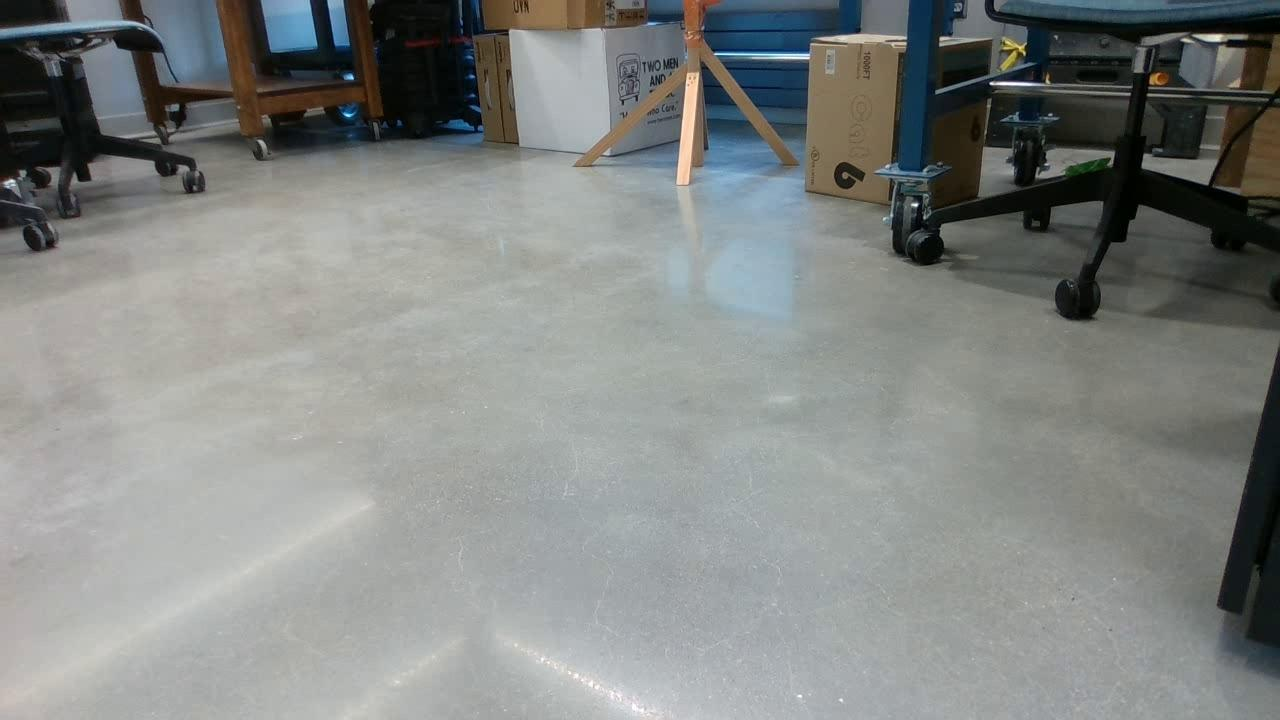grasshopper: (1065, 144, 1115, 177)
